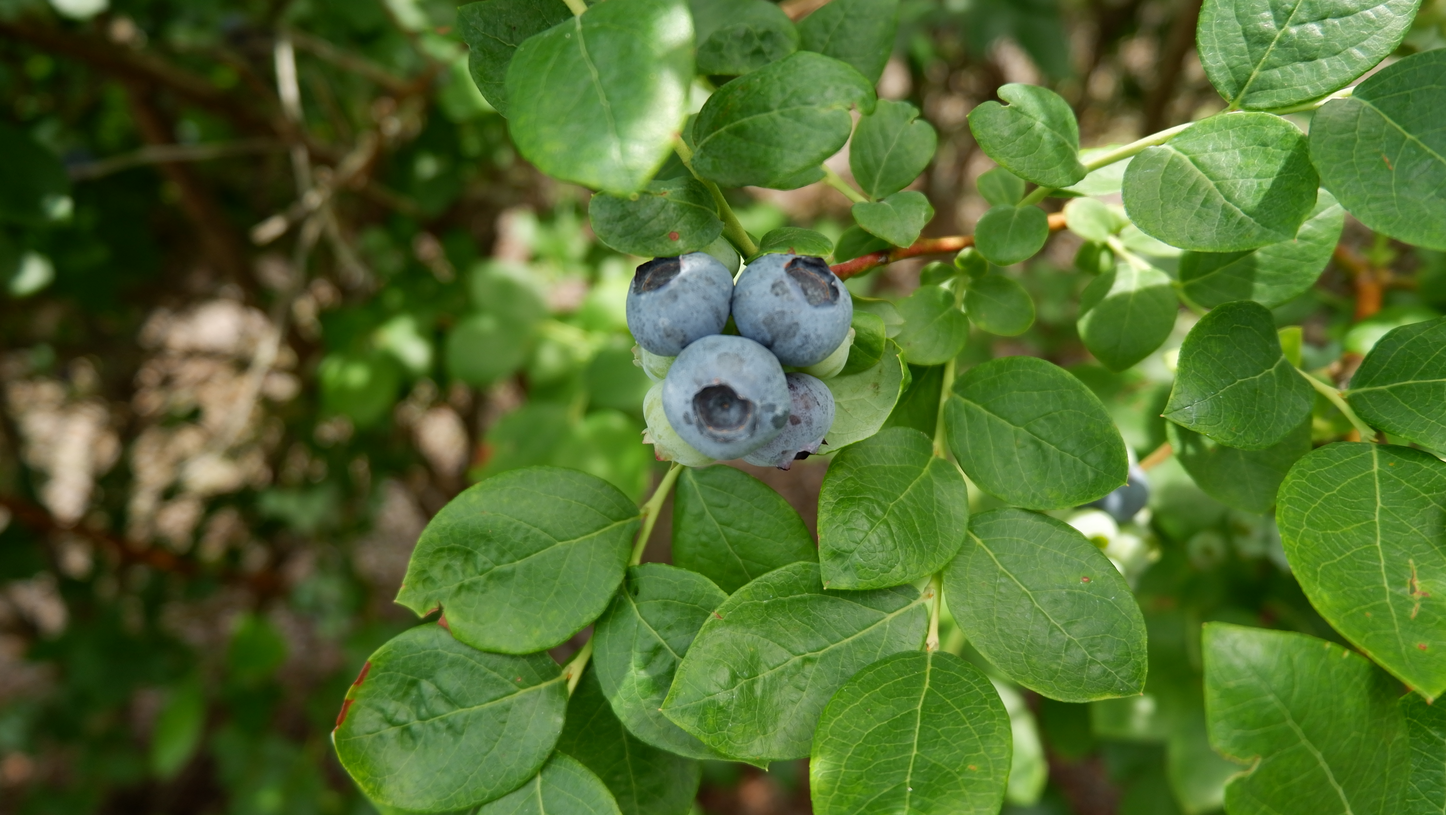Immature: (640, 379, 717, 470), (792, 328, 856, 380), (693, 234, 741, 279), (632, 341, 677, 383)
Mature: (661, 336, 792, 461), (732, 254, 852, 366), (624, 253, 734, 356), (741, 372, 836, 470)
